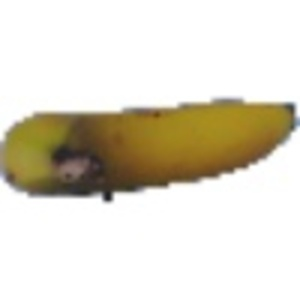banana: (2, 96, 293, 196)
